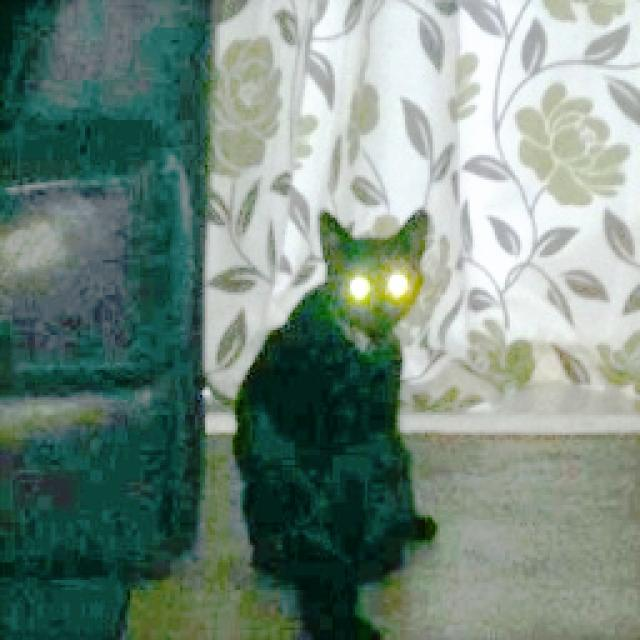cat: (212, 187, 488, 636)
